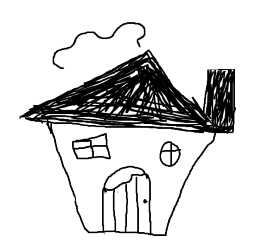chimney: (196, 62, 239, 133)
closed_window: (70, 132, 117, 163), (158, 139, 182, 166)
clouds: (51, 20, 146, 69)
door: (98, 166, 155, 236)
shaded_roof: (18, 49, 227, 134)
wall: (47, 121, 214, 237)
